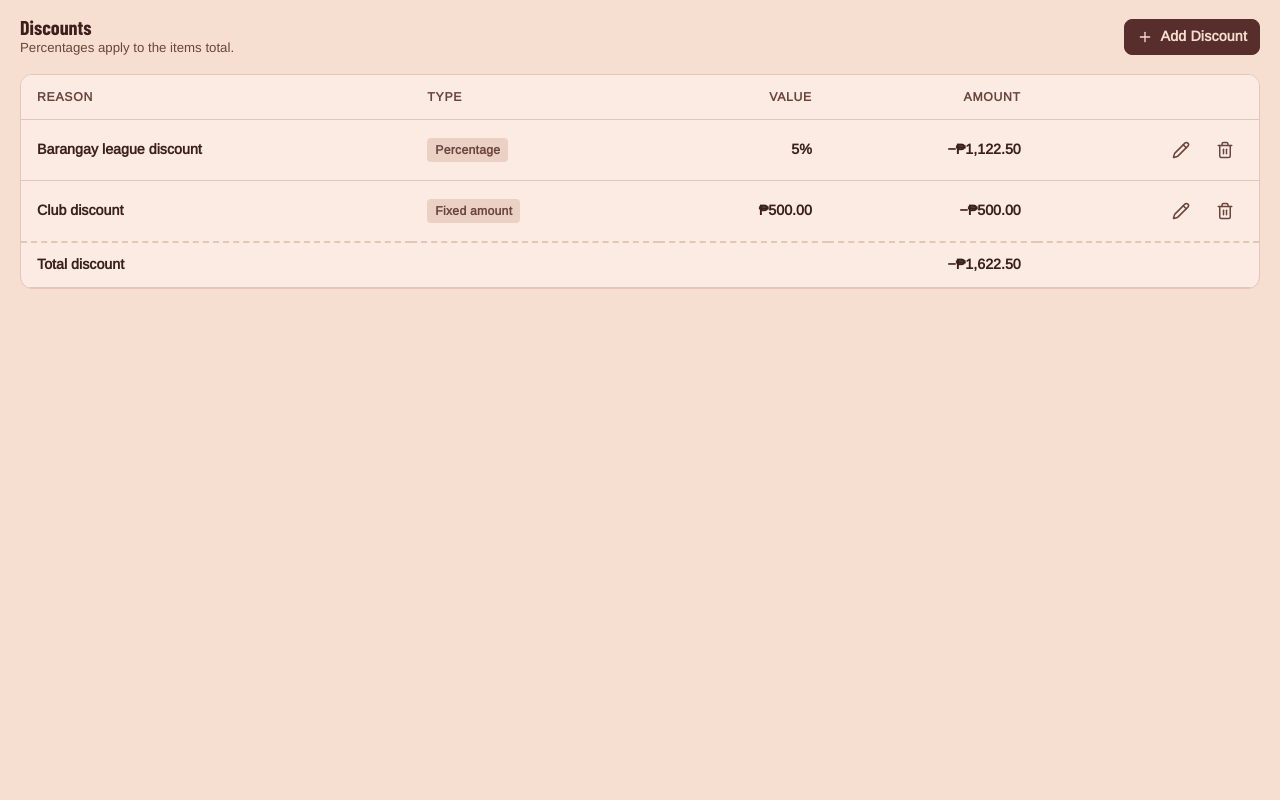
Scenario: Delete Discount › says "This discount was removed." when the discount is already gone (404)
Click the button named "Delete discount, Club discount". click: x=1225, y=211
box: [1207, 193, 1243, 229]
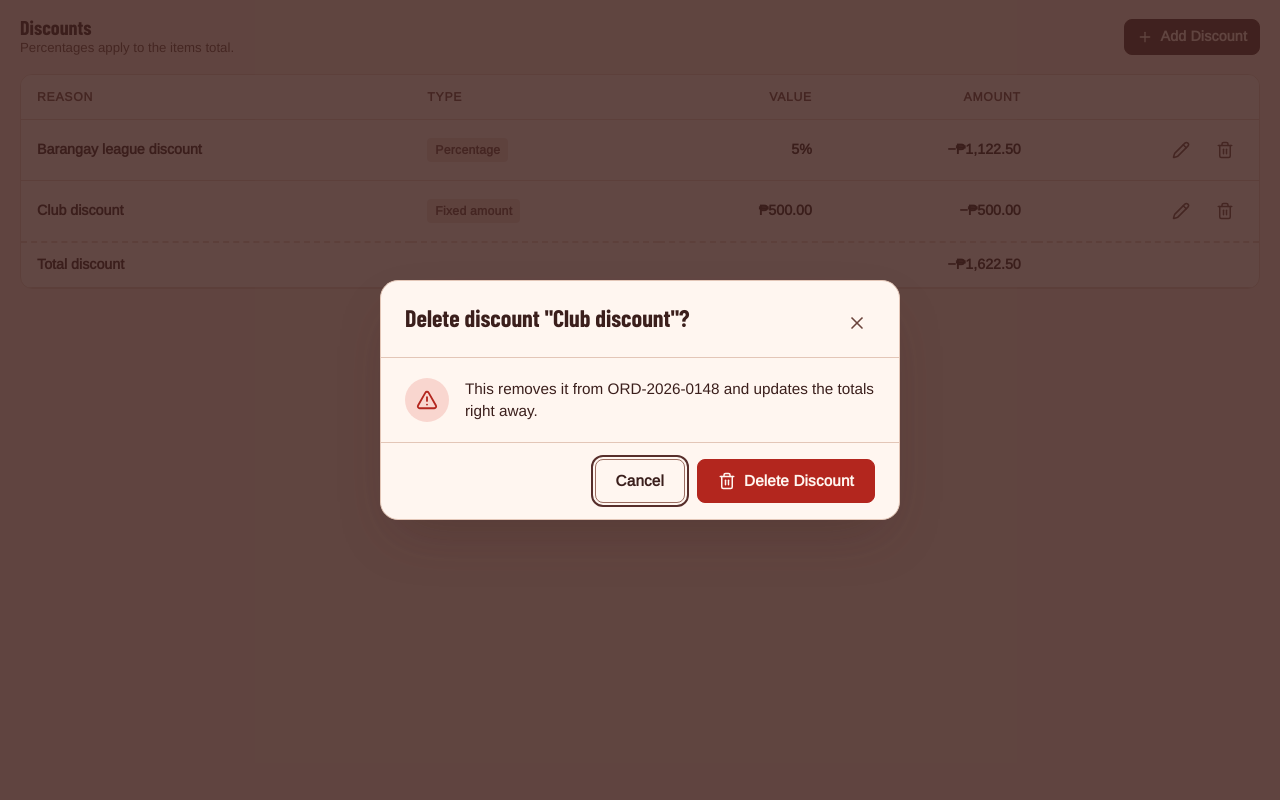
Click the button "Delete Discount". click: x=786, y=481
box: [697, 459, 875, 503]
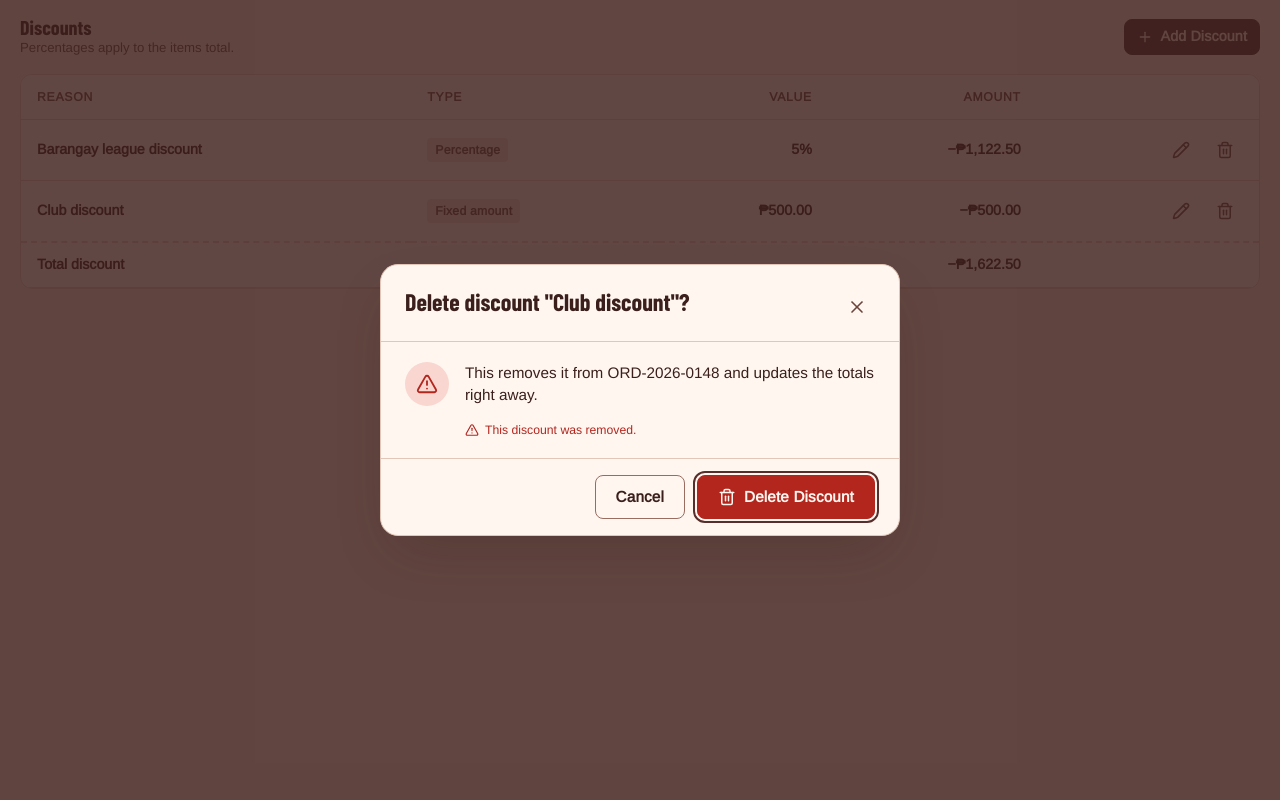
Check: the dialog "Delete discount \"Club discount\"?" is shown, box [380, 264, 900, 536]
Check: the message reads "This discount was removed.", box [485, 423, 636, 437]
